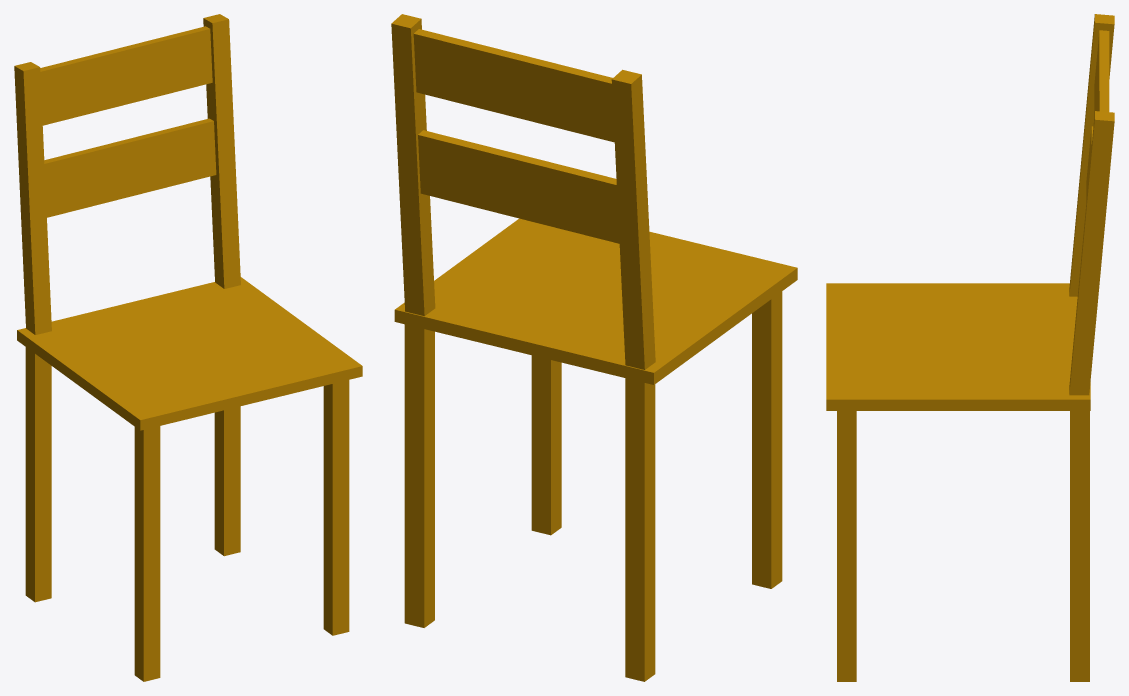
The model's file is chair.fbx.
3 renders of one model, left to right at view 1: azimuth 30°, elevation 25°; view 2: azimuth 150°, elevation 25°; view 3: azimuth 270°, elevation 25°, orthographic. The views are drawn at different scales.
Visible parts, largest first — view 1: chair; view 2: chair; view 3: chair.
Part boxes in pixels (box(x1,y1,x2,y2)): chair: box(14, 14, 362, 681); chair: box(391, 14, 797, 681); chair: box(826, 14, 1114, 681).
Bounding box in the file's own units: 4001 × 9017 × 4191.
